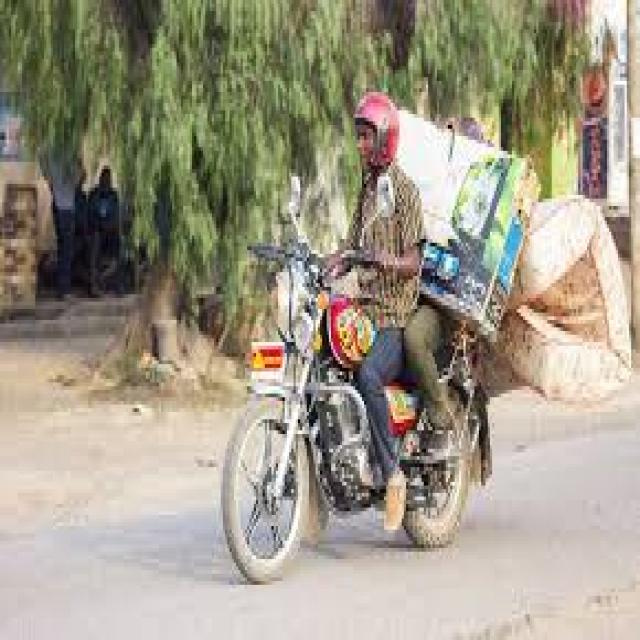bodaboda: (170, 159, 536, 580)
